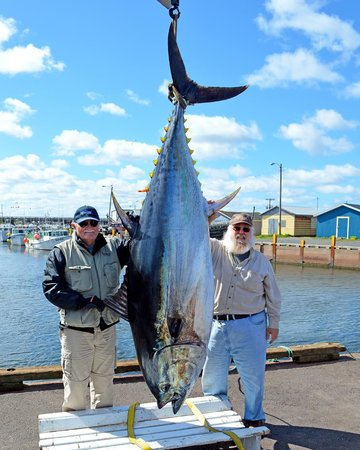Bluefina Tuna: (120, 26, 235, 409)
